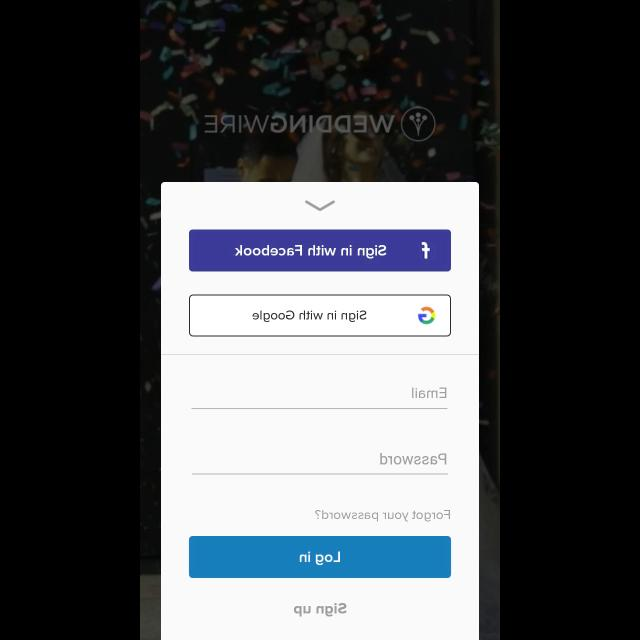icon: (305, 200, 335, 212)
image: (400, 106, 436, 142)
input: (191, 387, 447, 409), (192, 453, 448, 475)
panel: (161, 182, 479, 640)
text: (203, 115, 394, 135), (314, 510, 450, 522), (379, 453, 446, 465), (294, 603, 346, 617), (410, 388, 446, 398)
textbutton: (189, 230, 451, 272), (189, 295, 451, 337), (189, 536, 451, 578)
